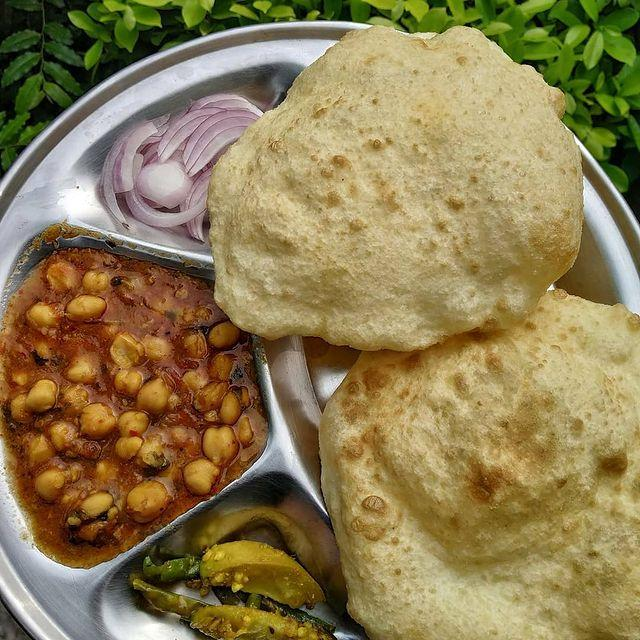Chole: (13, 274, 256, 524)
